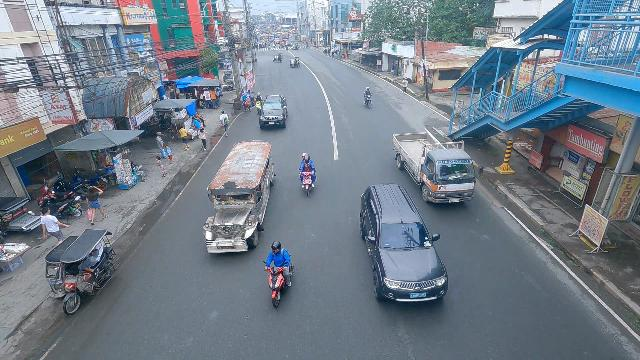car: (355, 182, 451, 307)
jeepney: (202, 138, 275, 256)
motorcycle: (262, 244, 296, 311), (297, 153, 316, 198), (362, 86, 375, 110), (256, 92, 263, 114), (286, 44, 289, 51)
truck: (390, 130, 479, 206), (258, 94, 288, 131)
